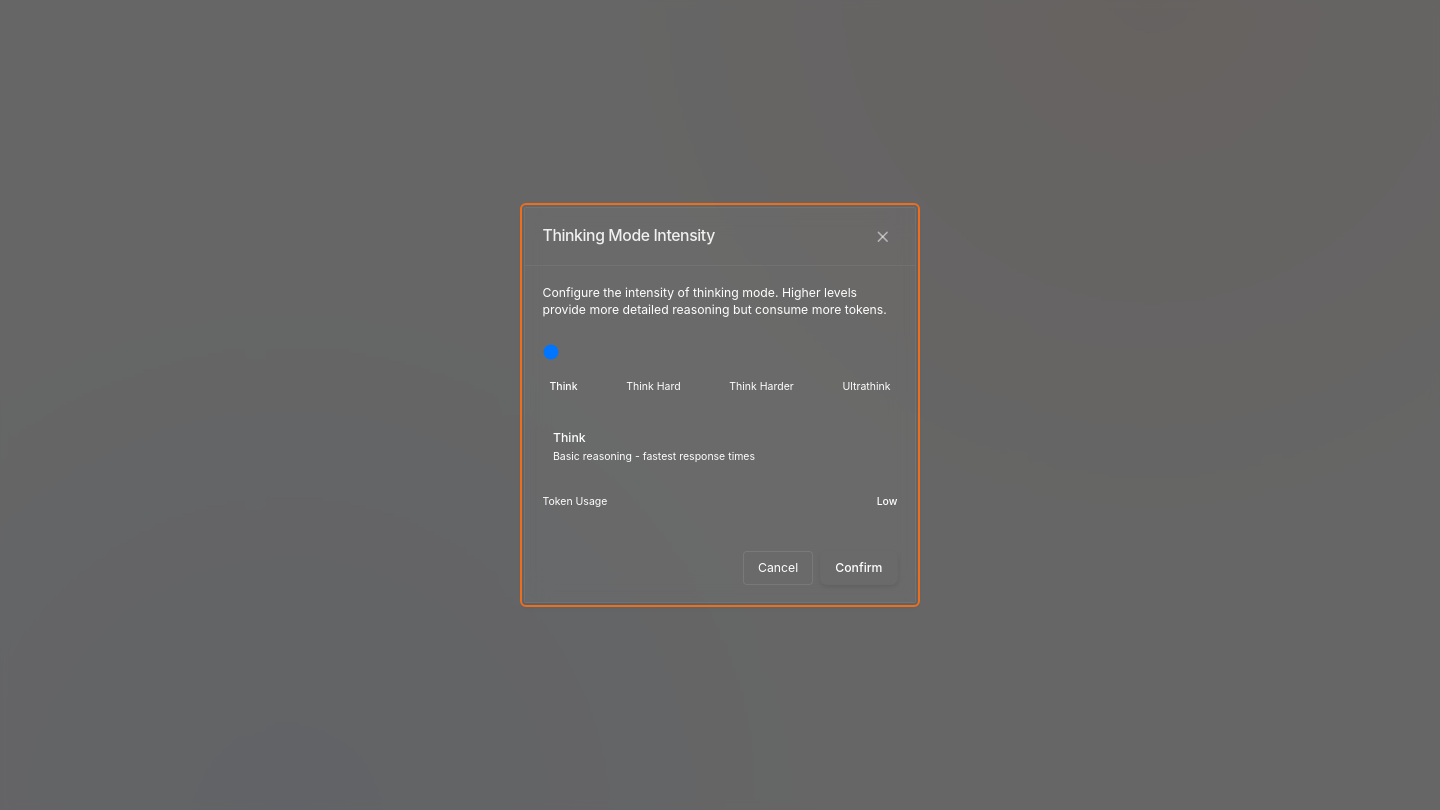
Test: ThinkingIntensityModal › level selection › should update level when slider changed
Step 1. Set the slider to "2" → point(776, 352), box [542,349,898,356]
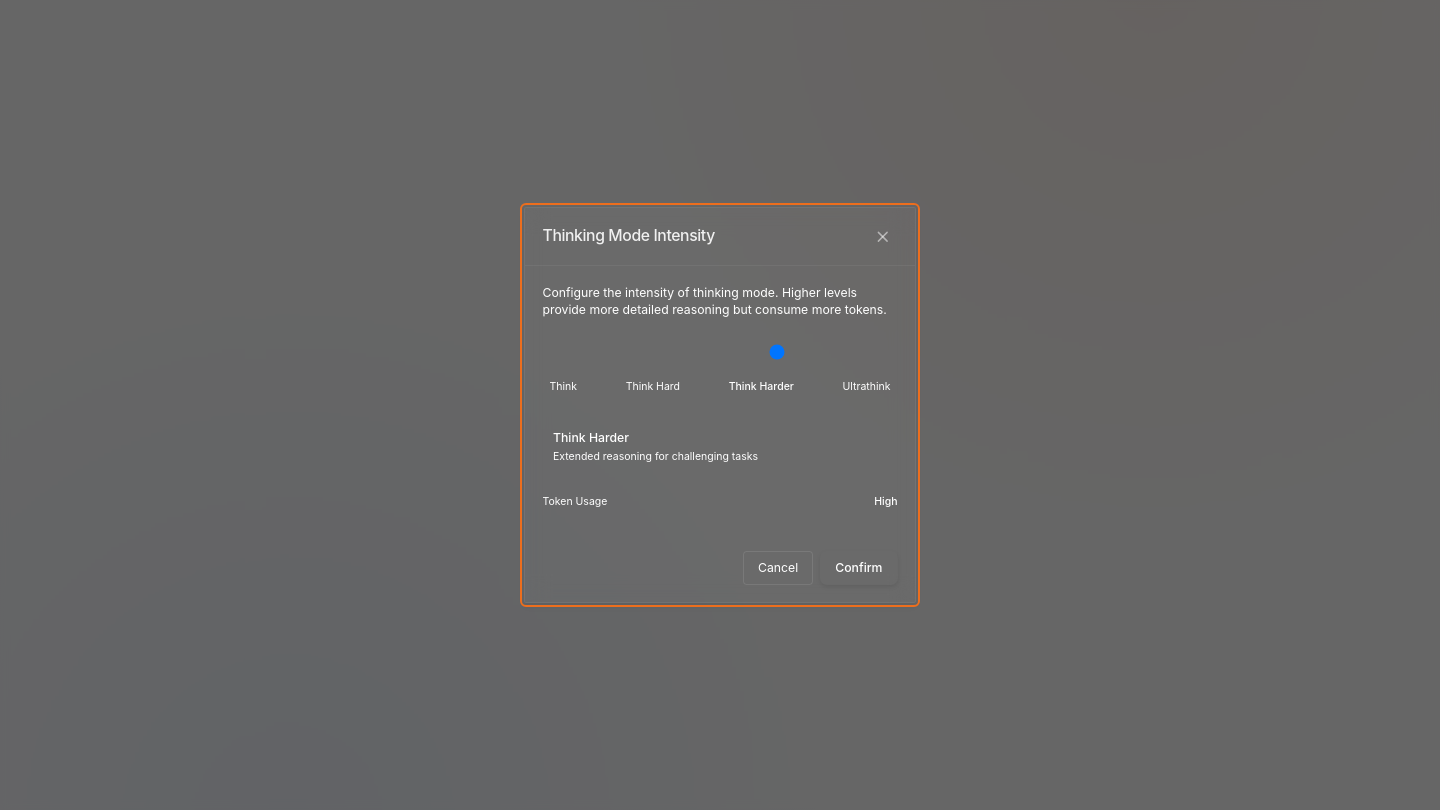
Now the text "Extended reasoning for challenging tasks" is shown, box [553,450,758,463]
